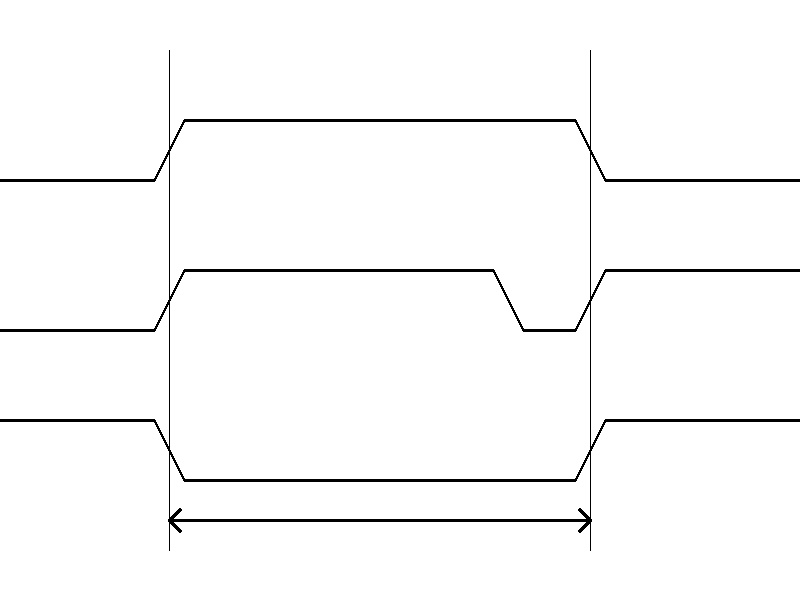double_arrow: (169, 505, 590, 535)
